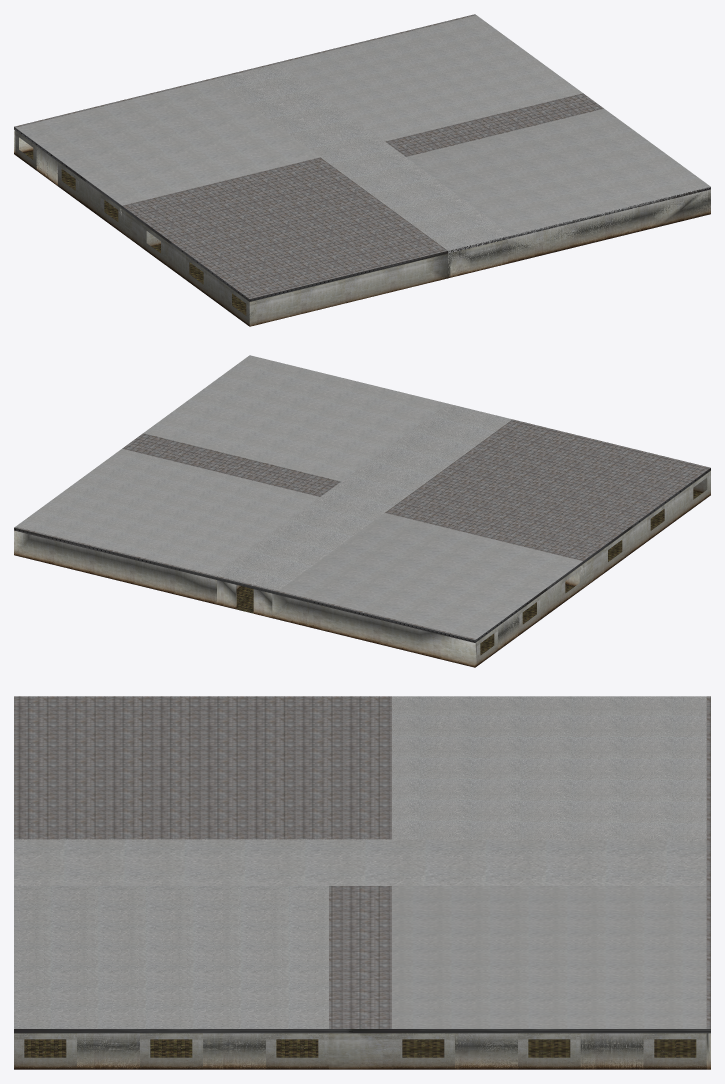
The model's file is final_map.fbx.
3 views of the same model, one above another, from view 1: azimuth 30°, elevation 25°; view 2: azimuth 150°, elevation 25°; view 3: azimuth 270°, elevation 25° (orthographic). The views are drawn at different scales.
Parts seen in each view (by area): view 1: Map; view 2: Map; view 3: Map.
Part boxes in pixels (x1,y1,x2,y2): Map: [14, 14, 710, 326]; Map: [14, 355, 710, 667]; Map: [14, 696, 710, 1069].
Bounding box in the file's own units: 9.77 × 0.5577 × 8.65.
